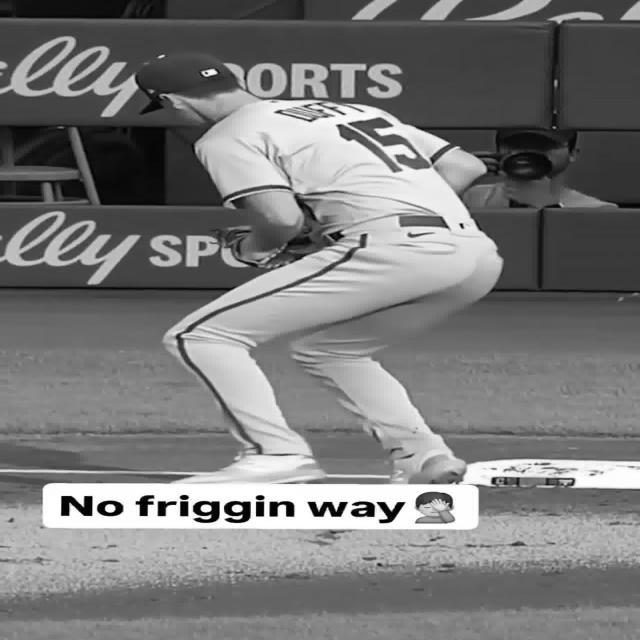base: (462, 459, 640, 489)
baseball_glove: (218, 226, 258, 266), (282, 229, 331, 259)
shoe: (173, 449, 327, 484), (389, 444, 467, 484)
